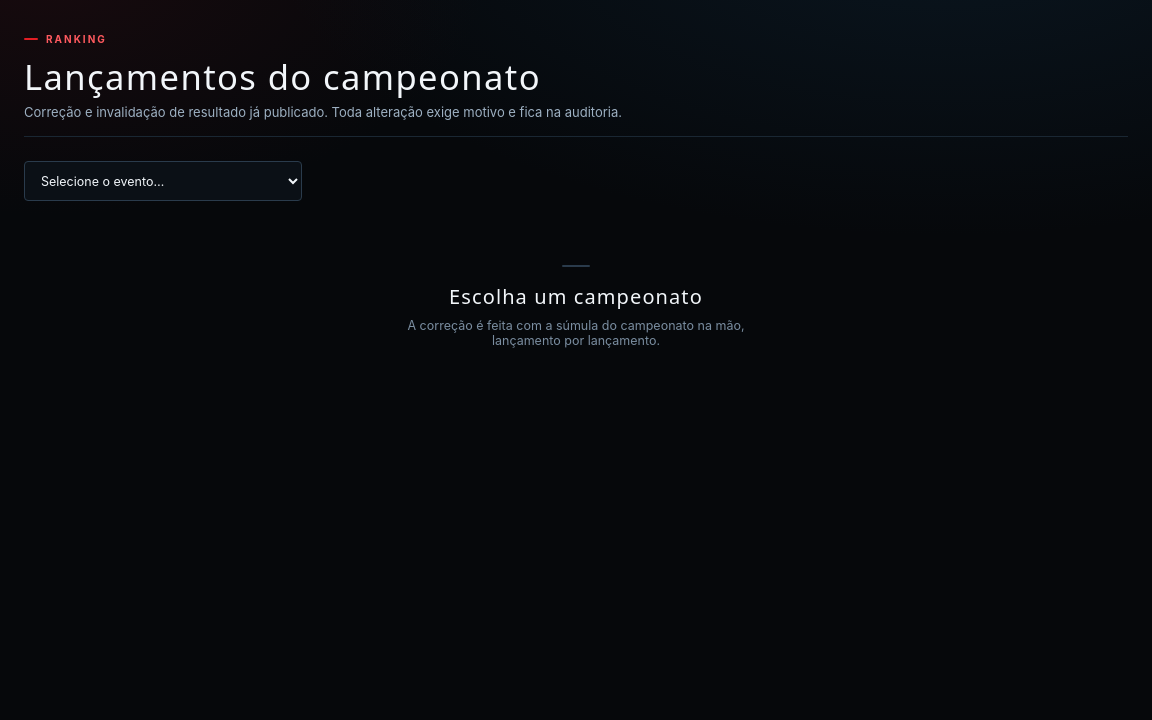
Test: corrigir › não existe campo de pontos: quem calcula é o servidor
Step 1. Select "Etapa Cuiabá — Resultados publicados" in the dropdown named "selecionar evento" → (163, 181), box x1=24 y1=161 x2=302 y2=201
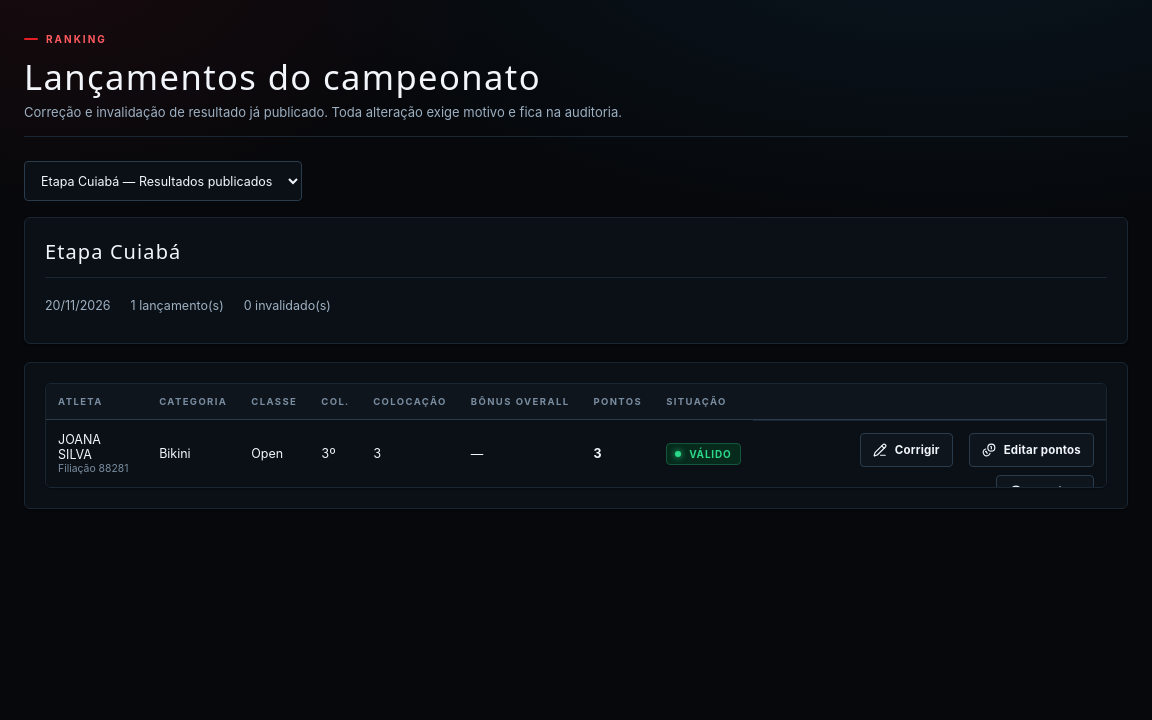
Step 2. Click the button "Corrigir" → (906, 450), box x1=860 y1=433 x2=953 y2=467
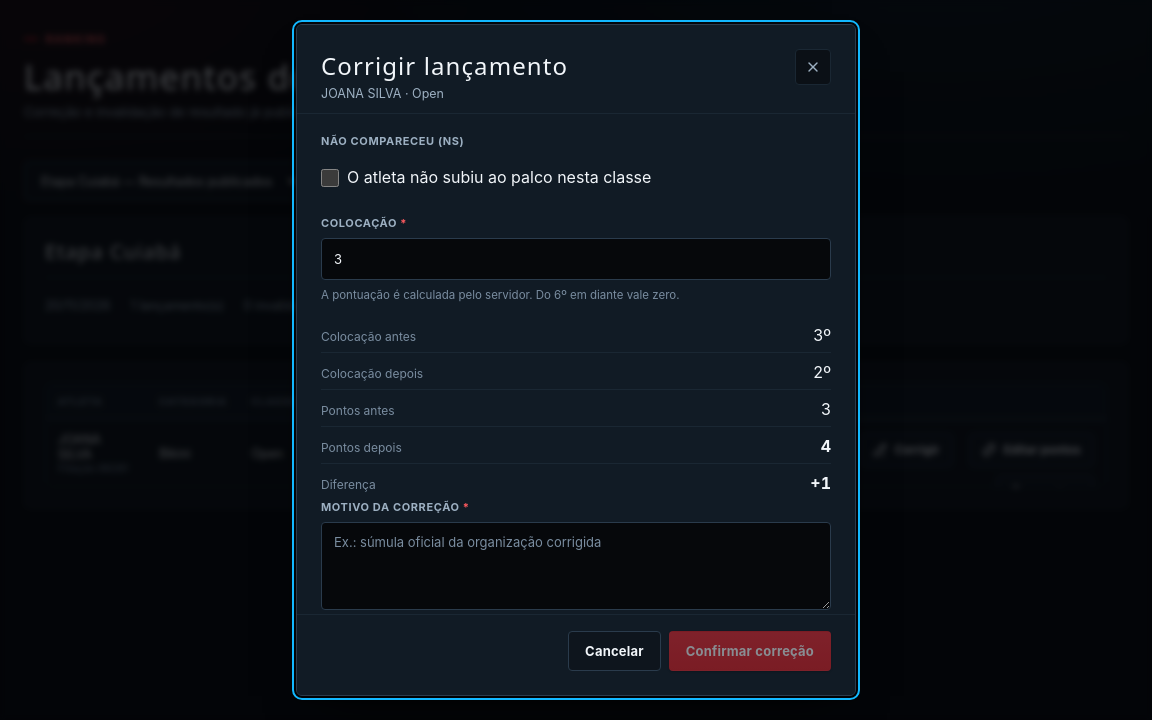
Now the dialog is shown
Now the number field labelled "Colocação" is shown, box x1=321 y1=238 x2=831 y2=280
